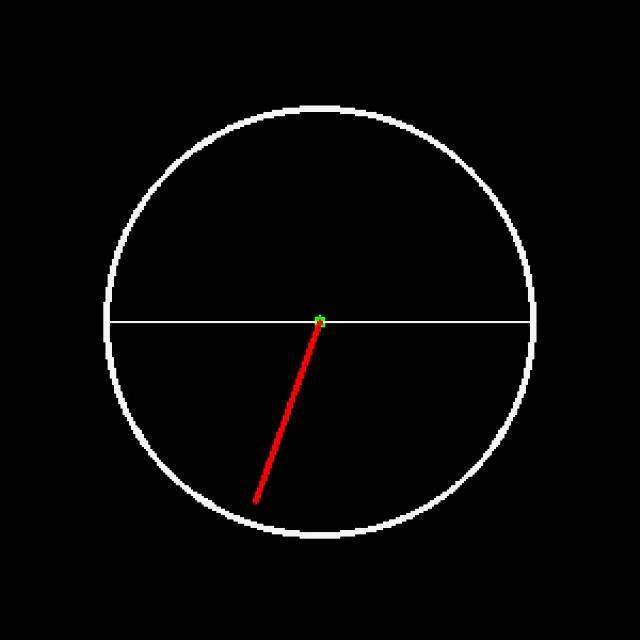Needle_Tip: (224, 473, 282, 523)
Needle_base: (291, 295, 341, 351)
